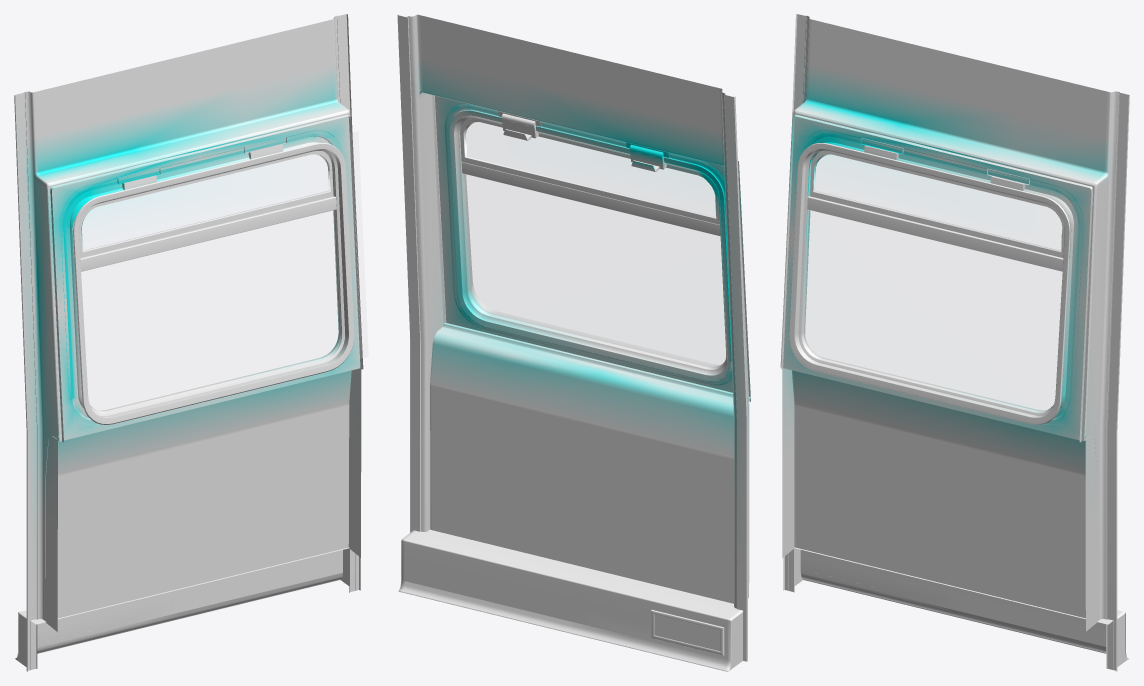
Rendered from SM_int_wall_window_150_01.fbx.
The picture shows the model from 3 angles, left to right: view 1: azimuth 30°, elevation 25°; view 2: azimuth 150°, elevation 25°; view 3: azimuth 330°, elevation 25°; orthographic projection.
Parts seen in each view (by area): view 1: SM_int_wall_window_150_01; view 2: SM_int_wall_window_150_01; view 3: SM_int_wall_window_150_01.
Boxes of the visible parts, bbox=[...] form: SM_int_wall_window_150_01: bbox=[14, 14, 367, 671]; SM_int_wall_window_150_01: bbox=[397, 14, 750, 671]; SM_int_wall_window_150_01: bbox=[780, 14, 1129, 671].
Size of the model in its own units: 154 by 34.12 by 251.
